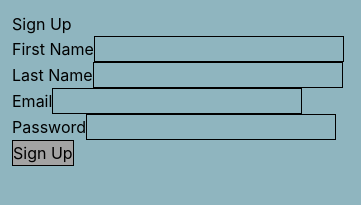
Test: SignupView › successfully signs up user and shows success message
The image size is (361, 205).
fill form
Type "John" into the field next to "First Name" at x=219, y=49, box [94,36,344,62]
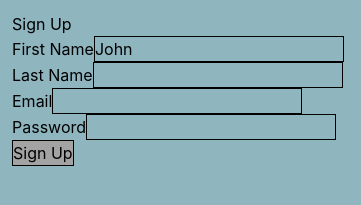
Type "Doe" into the field next to "Last Name" at x=218, y=75, box [93,62,343,88]
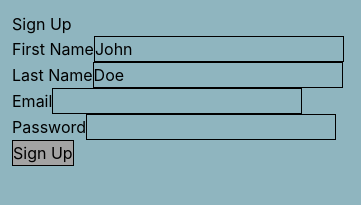
Type "test@test.com" into the field next to "Email" at x=177, y=101, box [52,88,302,114]
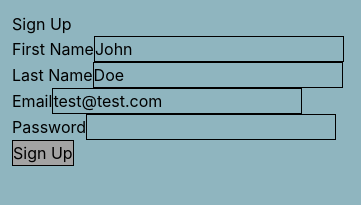
Type "123456" into the password field at x=211, y=127, box [86,114,336,140]
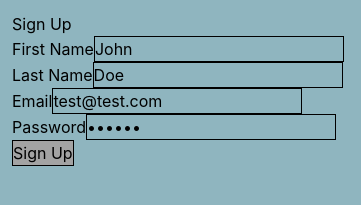
submit form
Submit the form, box [12,36,344,166]
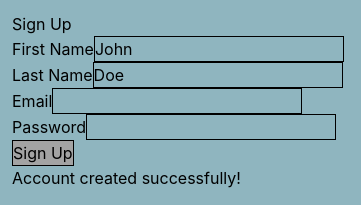
Expected: the text "Account created successfully!" is shown, [12,168,241,188]
